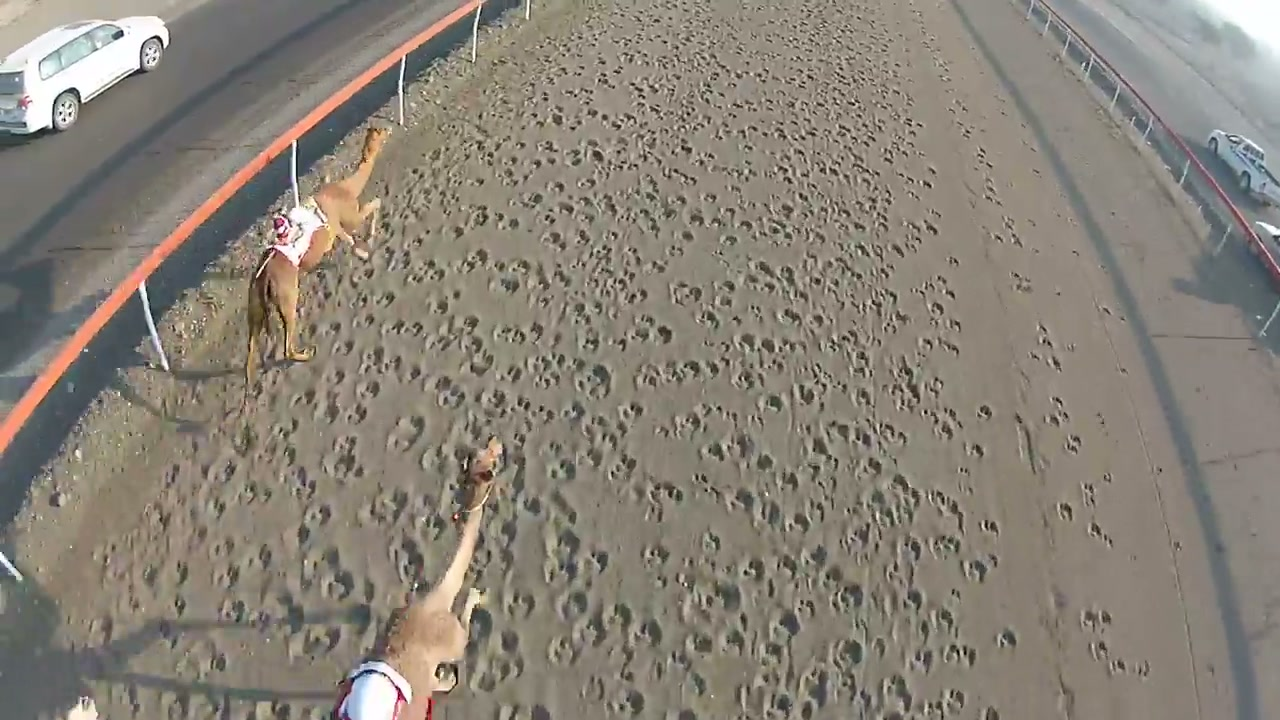animal_foot_print: (32, 0, 1193, 719)
